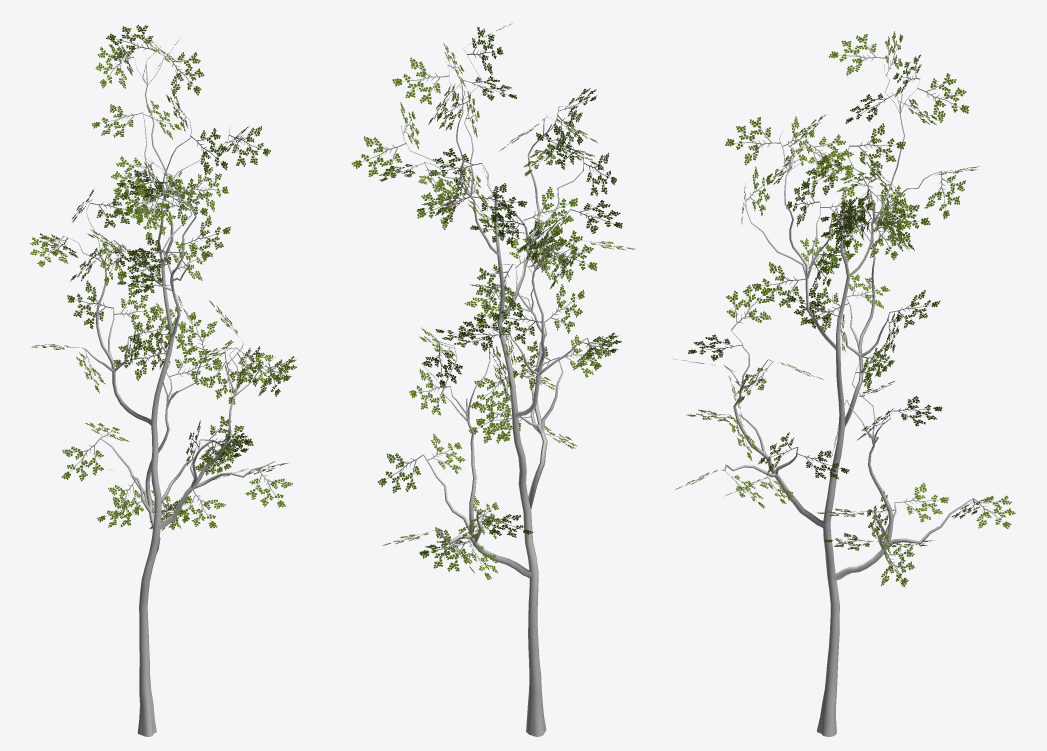
File: tree2.obj
The picture shows the model from 3 angles, left to right: view 1: azimuth 30°, elevation 25°; view 2: azimuth 150°, elevation 25°; view 3: azimuth 270°, elevation 25°; orthographic projection. The views are drawn at different scales.
Visible parts, largest first — view 1: tree2SG; view 2: tree2SG; view 3: tree2SG.
Boxes of the visible parts, x1=… form: tree2SG: x1=30, y1=24, x2=297, y2=736; tree2SG: x1=351, y1=23, x2=634, y2=736; tree2SG: x1=672, y1=31, x2=1015, y2=736.
Bounding box in the file's own units: 6.94 × 17.43 × 7.98.
